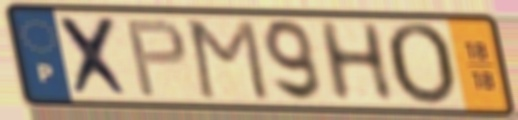9: (258, 17, 327, 105)
H: (312, 19, 399, 105)
M: (185, 17, 273, 104)
O: (382, 20, 460, 109)
P: (121, 17, 190, 99)
X: (54, 13, 137, 100)
